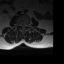CCS_stenosis: (22, 23, 24, 30)
LFS_normal: (25, 23, 27, 27)
LLS_normal: (24, 23, 25, 29)
RFS_normal: (19, 22, 21, 27)
RLS_normal: (21, 23, 22, 28)
